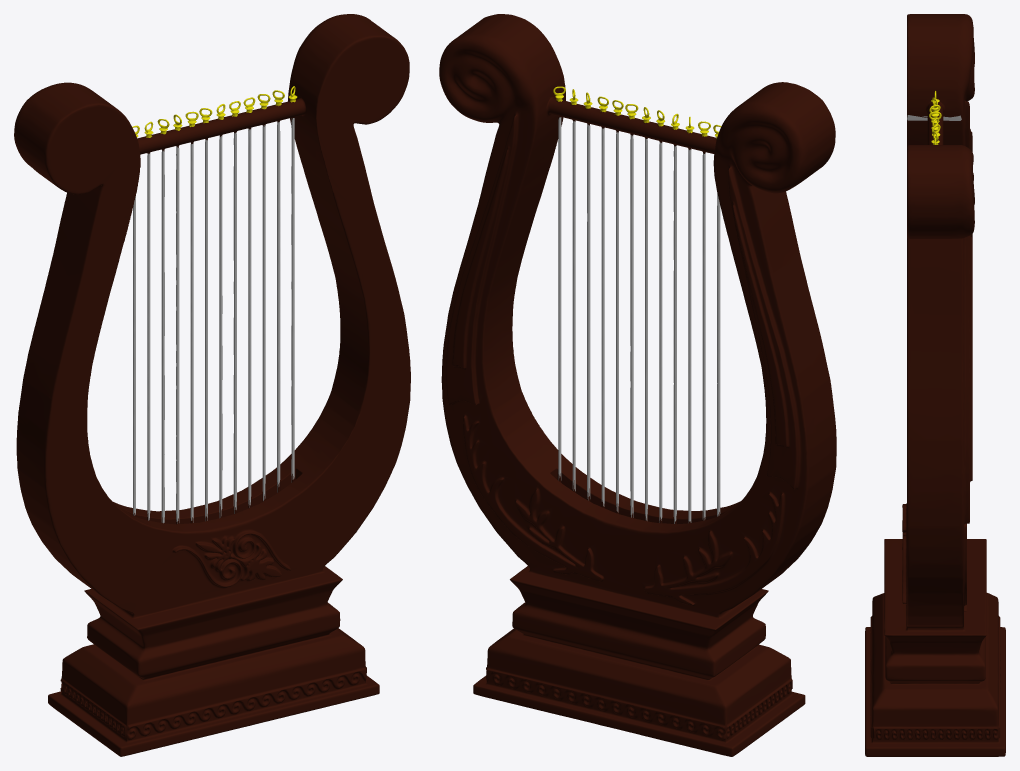
Rendered from Lire.fbx.
The picture shows the model from 3 angles, left to right: view 1: azimuth 30°, elevation 25°; view 2: azimuth 150°, elevation 25°; view 3: azimuth 270°, elevation 25°; orthographic projection. The views are drawn at different scales.
Visible parts, largest first — view 1: Object_3; view 2: Object_3; view 3: Object_3.
Boxes of the visible parts, x1=… form: Object_3: x1=14, y1=14, x2=410, y2=756; Object_3: x1=439, y1=14, x2=836, y2=756; Object_3: x1=865, y1=14, x2=1005, y2=756.
Size of the model in its own units: 4063 by 6776 by 1412.
